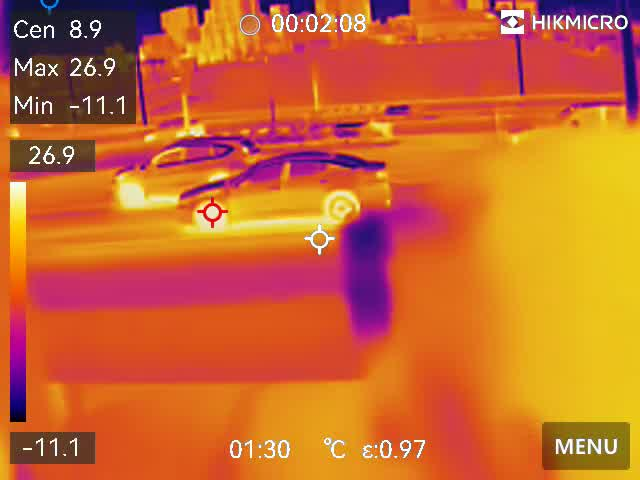largeCar: (111, 133, 258, 206)
lightTruck: (502, 95, 640, 140)
smallCar: (176, 152, 394, 226)
